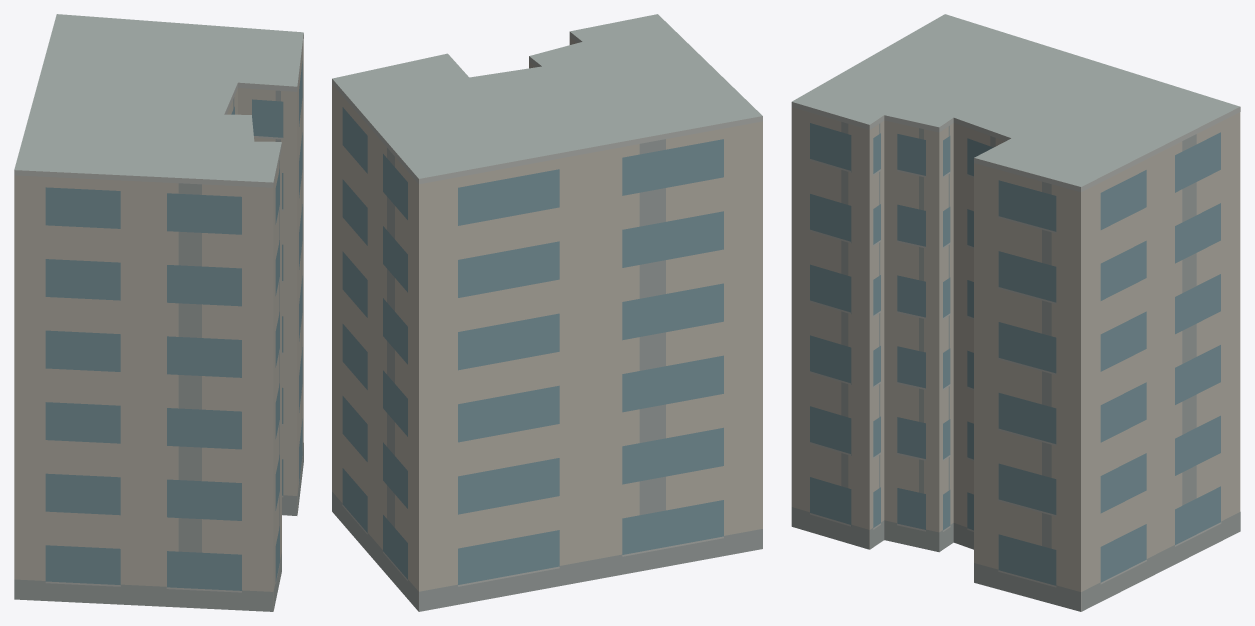
File: survey-upis-33020727.glb
3 views of the same model, side by side, from view 1: azimuth 30°, elevation 25°; view 2: azimuth 150°, elevation 25°; view 3: azimuth 270°, elevation 25° (orthographic).
Parts seen in each view (by area): view 1: survey-upis-33020727.tmp; view 2: survey-upis-33020727.tmp; view 3: survey-upis-33020727.tmp.
Part boxes in pixels (x1=…): survey-upis-33020727.tmp: x1=14, y1=14, x2=303, y2=611; survey-upis-33020727.tmp: x1=332, y1=14, x2=762, y2=611; survey-upis-33020727.tmp: x1=791, y1=14, x2=1240, y2=611.
Size of the model in its own units: 17.3 by 19.8 by 18.97.
